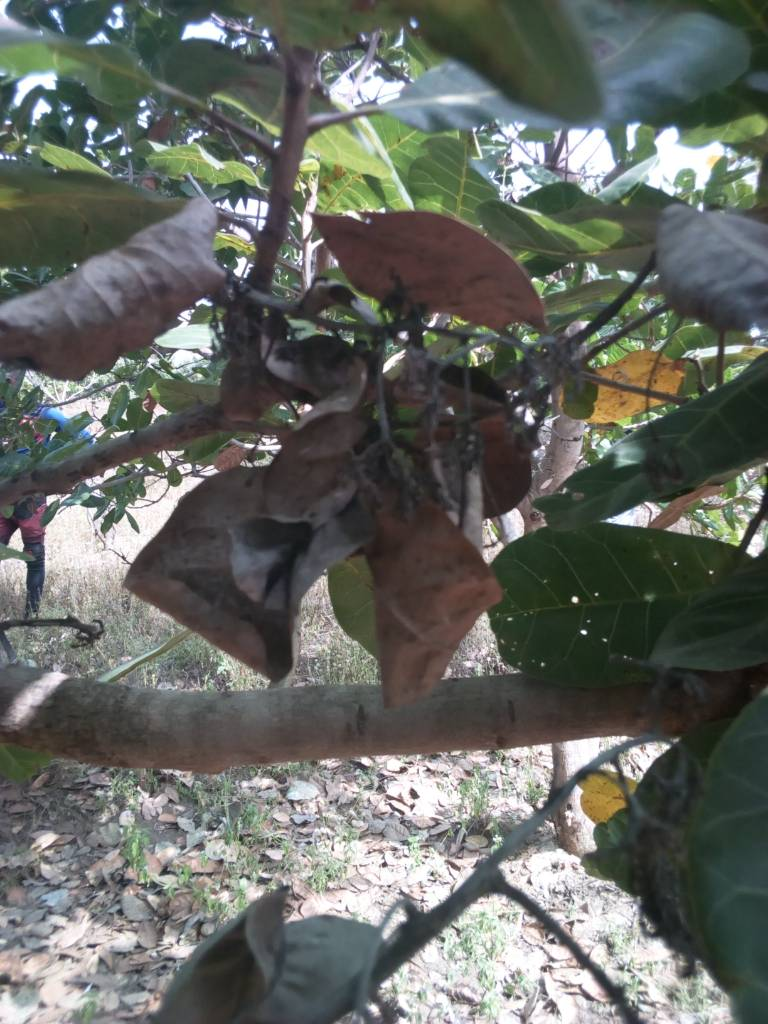Dessèchement des bourgeons: (311, 274, 494, 503)
